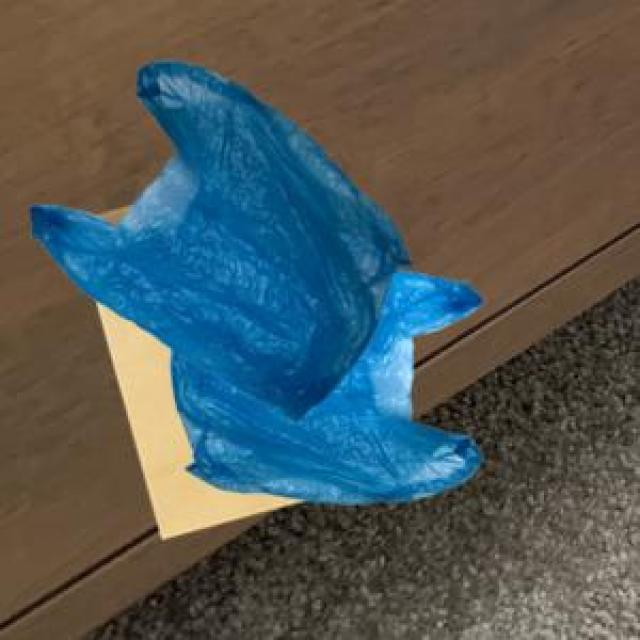paper: (94, 203, 301, 536)
